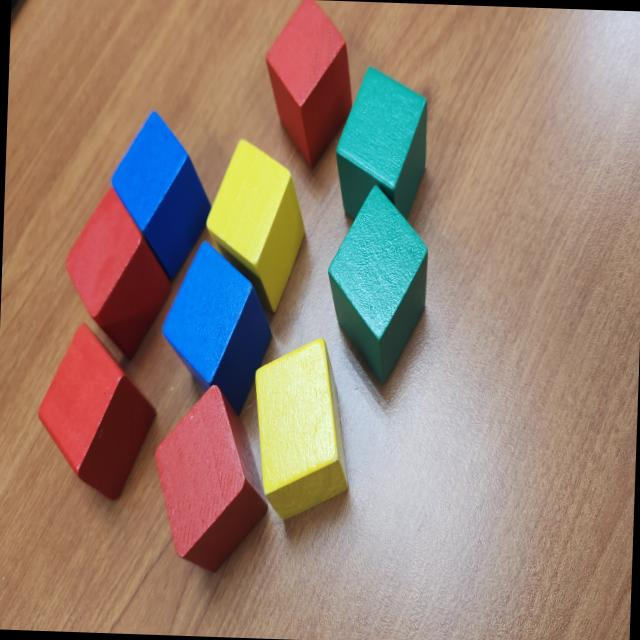blue: (158, 238, 276, 418), (107, 108, 215, 284)
green: (324, 182, 431, 388), (331, 63, 429, 223)
red: (150, 382, 274, 574), (34, 319, 160, 506), (61, 182, 175, 362), (261, 0, 355, 171)
yellow: (250, 335, 354, 523), (202, 136, 310, 316)
